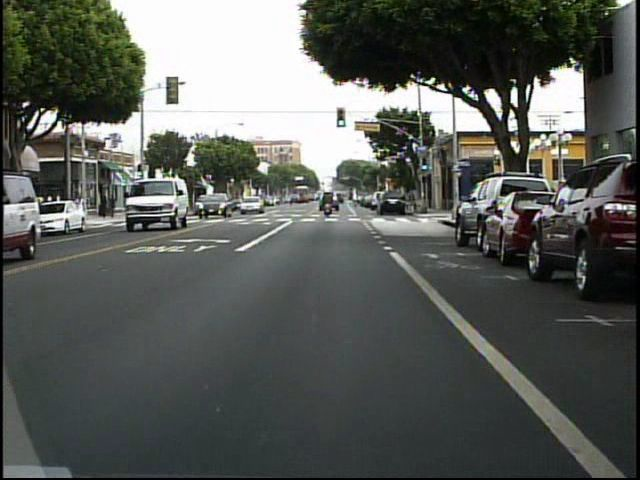person: (321, 189, 337, 219), (110, 193, 120, 220)
